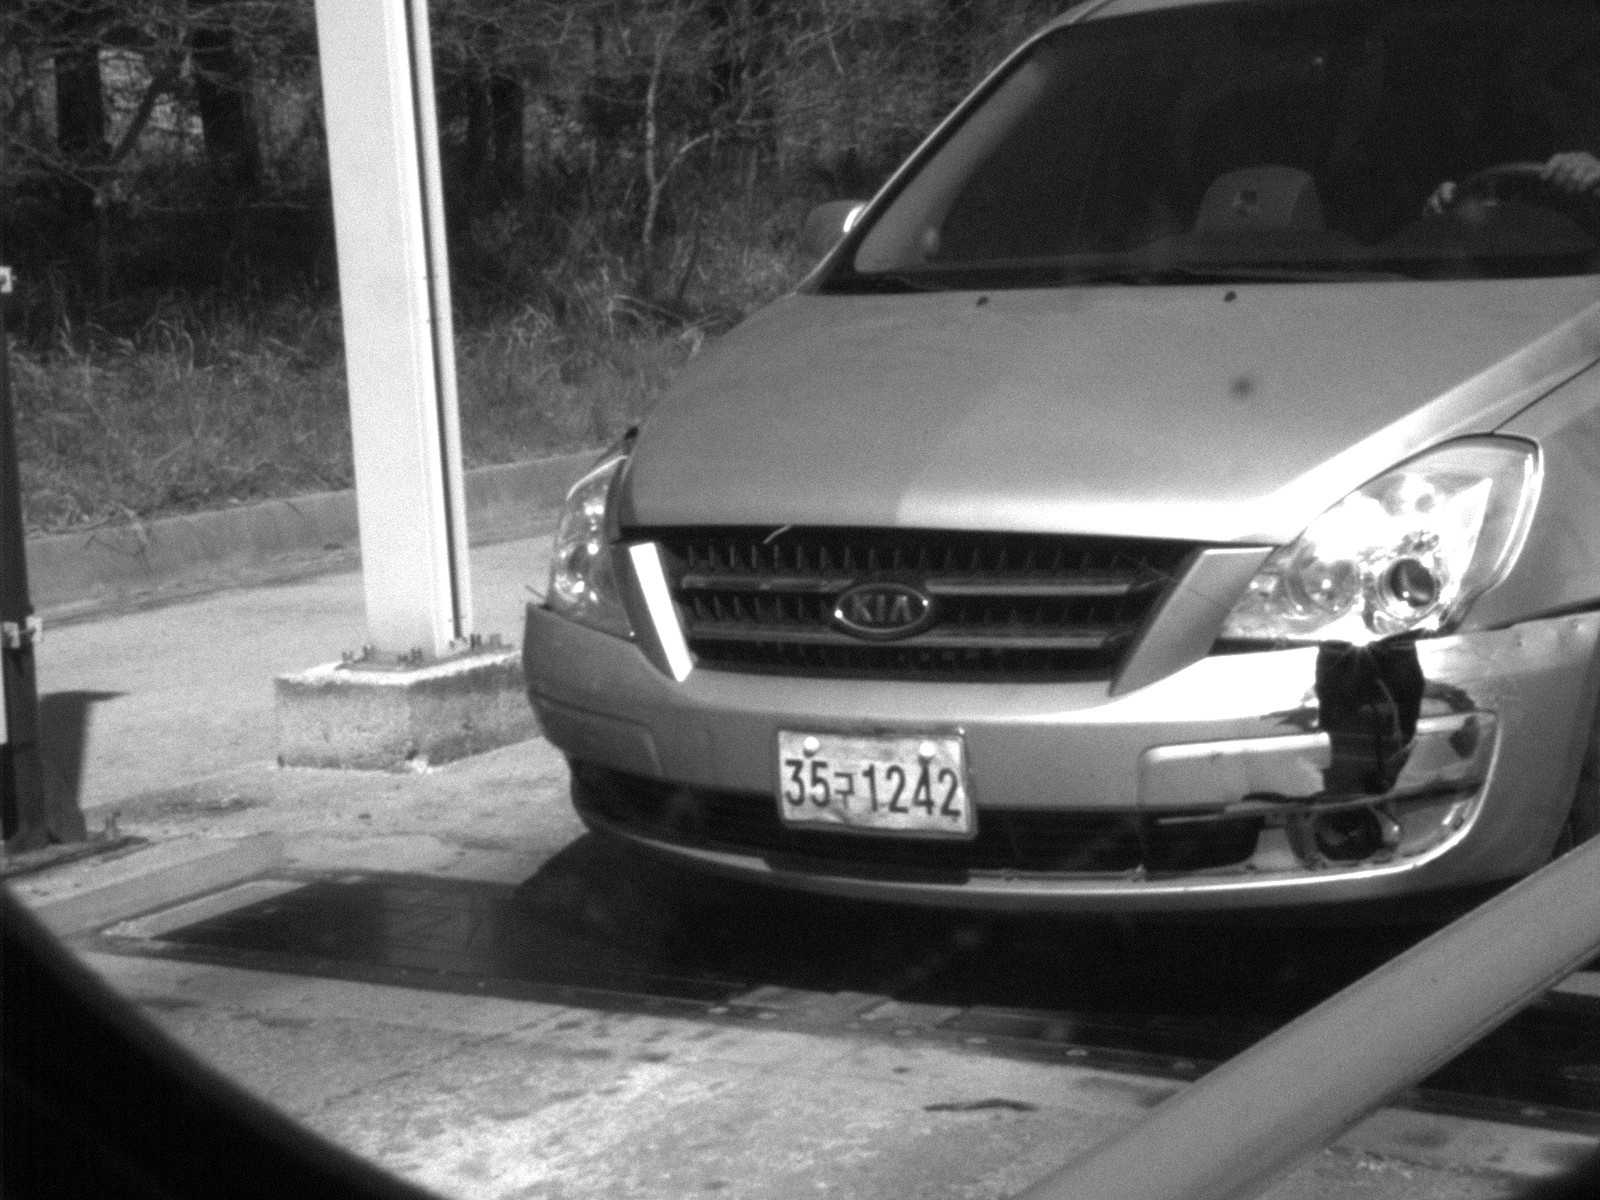car: (513, 1, 1598, 934)
plate: (769, 723, 983, 842)
